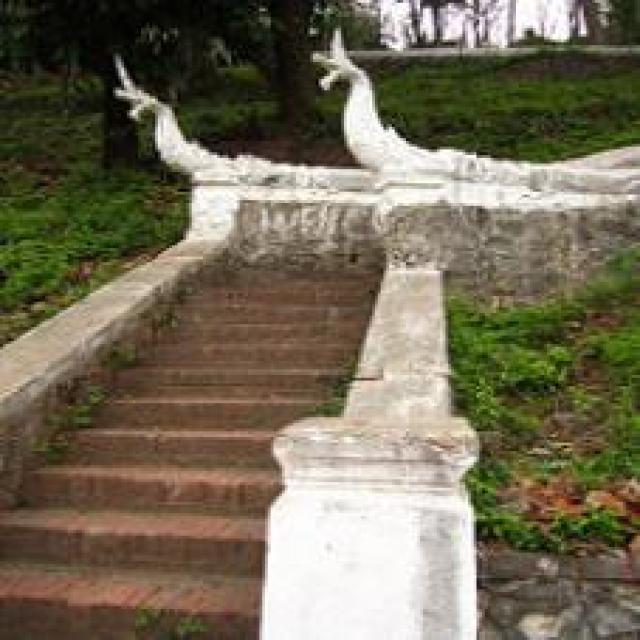upstair: (15, 291, 275, 613)
